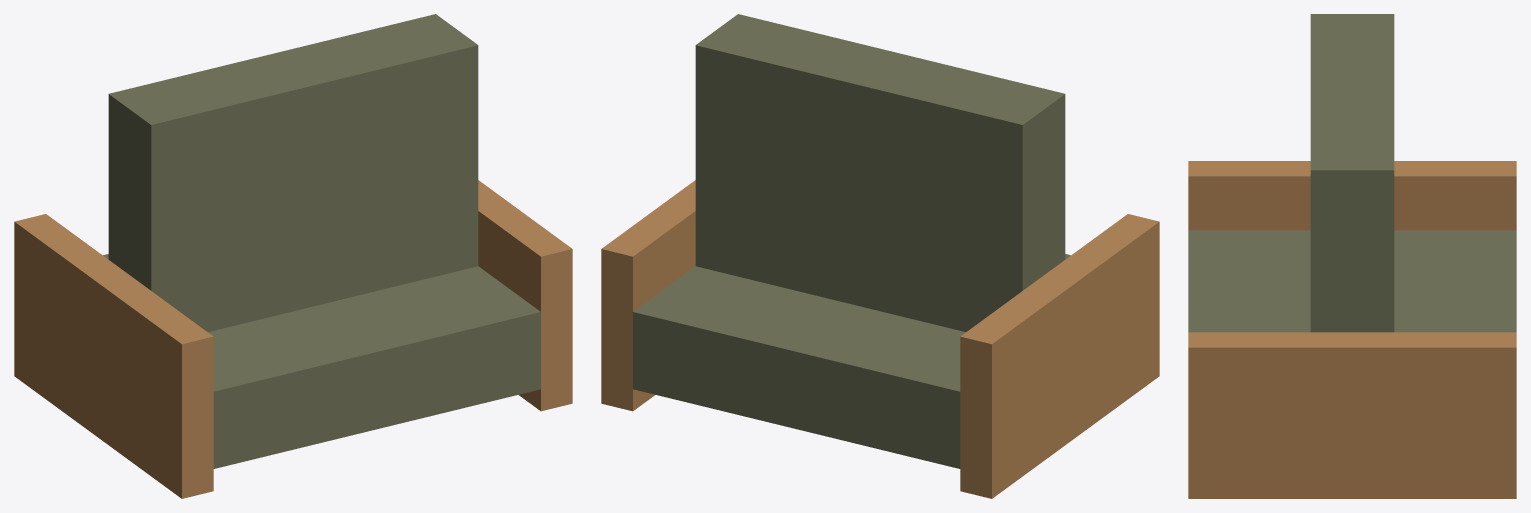
Rendered from lounge-chair.glb.
The picture shows the model from 3 angles, left to right: view 1: azimuth 30°, elevation 25°; view 2: azimuth 150°, elevation 25°; view 3: azimuth 270°, elevation 25°; orthographic projection. The views are drawn at different scales.
Visible parts, largest first — view 1: upholstery_back, upholstery_seat, frame_left, frame_right; view 2: upholstery_back, upholstery_seat, frame_left, frame_right; view 3: frame_right, upholstery_back, upholstery_seat, frame_left.
Boxes of the visible parts, left/top/right/bottom form: upholstery_back: left=108, top=14, right=478, bottom=331; upholstery_seat: left=103, top=254, right=540, bottom=468; frame_left: left=14, top=214, right=213, bottom=498; frame_right: left=478, top=180, right=572, bottom=411; upholstery_back: left=695, top=14, right=1065, bottom=331; upholstery_seat: left=633, top=254, right=1070, bottom=468; frame_left: left=960, top=214, right=1159, bottom=498; frame_right: left=601, top=180, right=695, bottom=411; frame_right: left=1188, top=332, right=1516, bottom=498; upholstery_back: left=1310, top=14, right=1394, bottom=332; upholstery_seat: left=1188, top=230, right=1516, bottom=332; frame_left: left=1188, top=161, right=1516, bottom=230.
Size of the model in its own units: 0.74 by 0.58 by 0.55.
